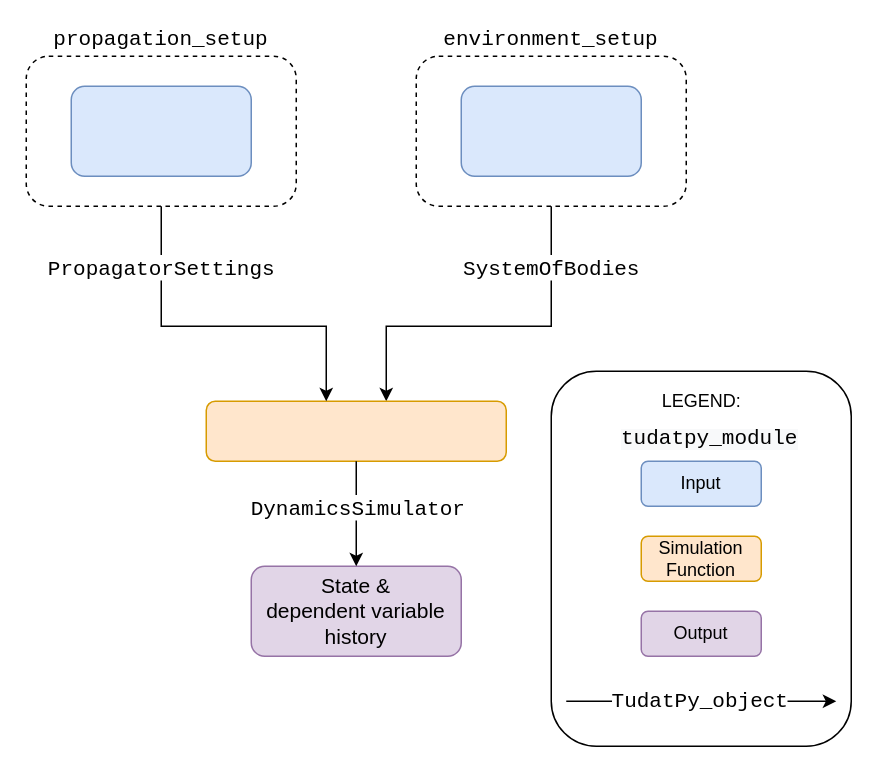
The diagram is 878 pixels wide and 773 high, and some of its shapes have lost their labels. The shapes that lost their labels are listed below. From the top down, each one's centre as x and y in pixels, then its label:
the point at 160,130: Dynamical modeling
the point at 550,130: Environment properties
the point at 355,430: create _dynamics_simulator
